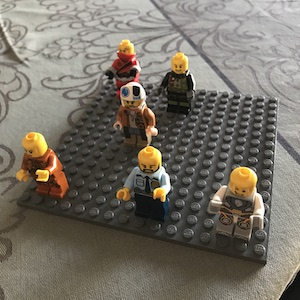Lego: (14, 129, 69, 205), (210, 167, 265, 242), (112, 81, 159, 147), (159, 51, 196, 114), (106, 38, 141, 100)
